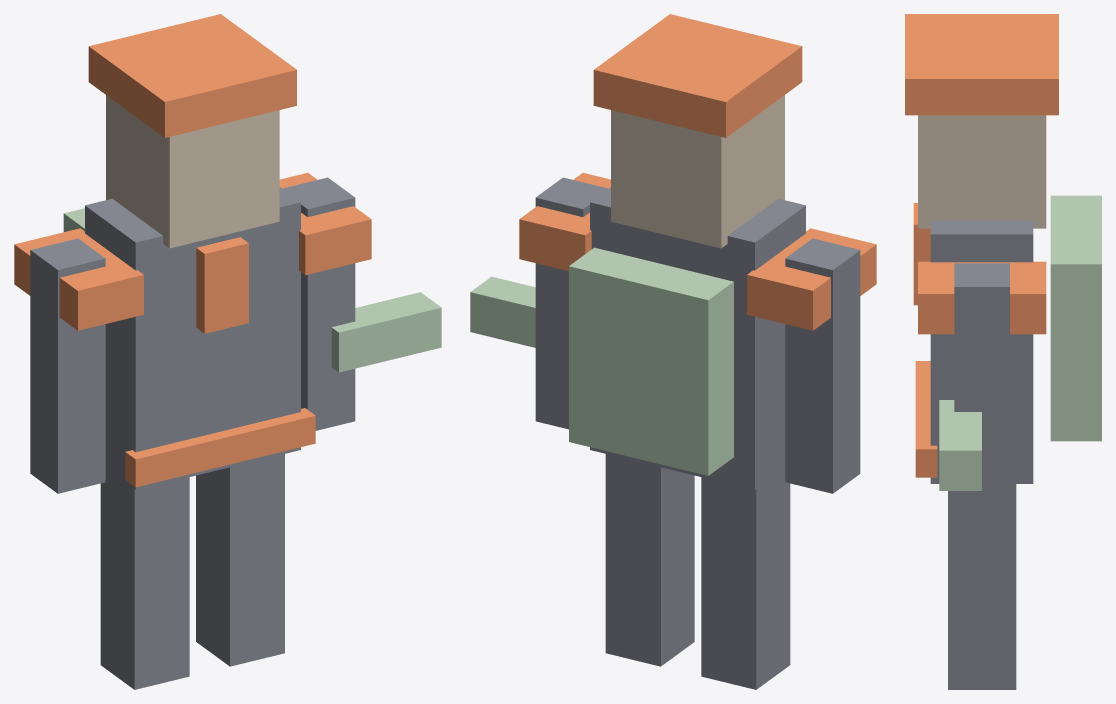
The model's file is 06_pax_skyharrow_courier_near_surface.glb.
The picture shows the model from 3 angles, left to right: view 1: azimuth 30°, elevation 25°; view 2: azimuth 150°, elevation 25°; view 3: azimuth 270°, elevation 25°; orthographic projection.
Visible parts, largest first — view 1: Pax Skyharrow, Courier near Surface; view 2: Pax Skyharrow, Courier near Surface; view 3: Pax Skyharrow, Courier near Surface.
Boxes of the visible parts, bbox=[...] form: Pax Skyharrow, Courier near Surface: bbox=[14, 14, 441, 689]; Pax Skyharrow, Courier near Surface: bbox=[470, 14, 876, 689]; Pax Skyharrow, Courier near Surface: bbox=[905, 14, 1101, 689].
Size of the model in its own units: 1.01 by 1.54 by 0.4522.
